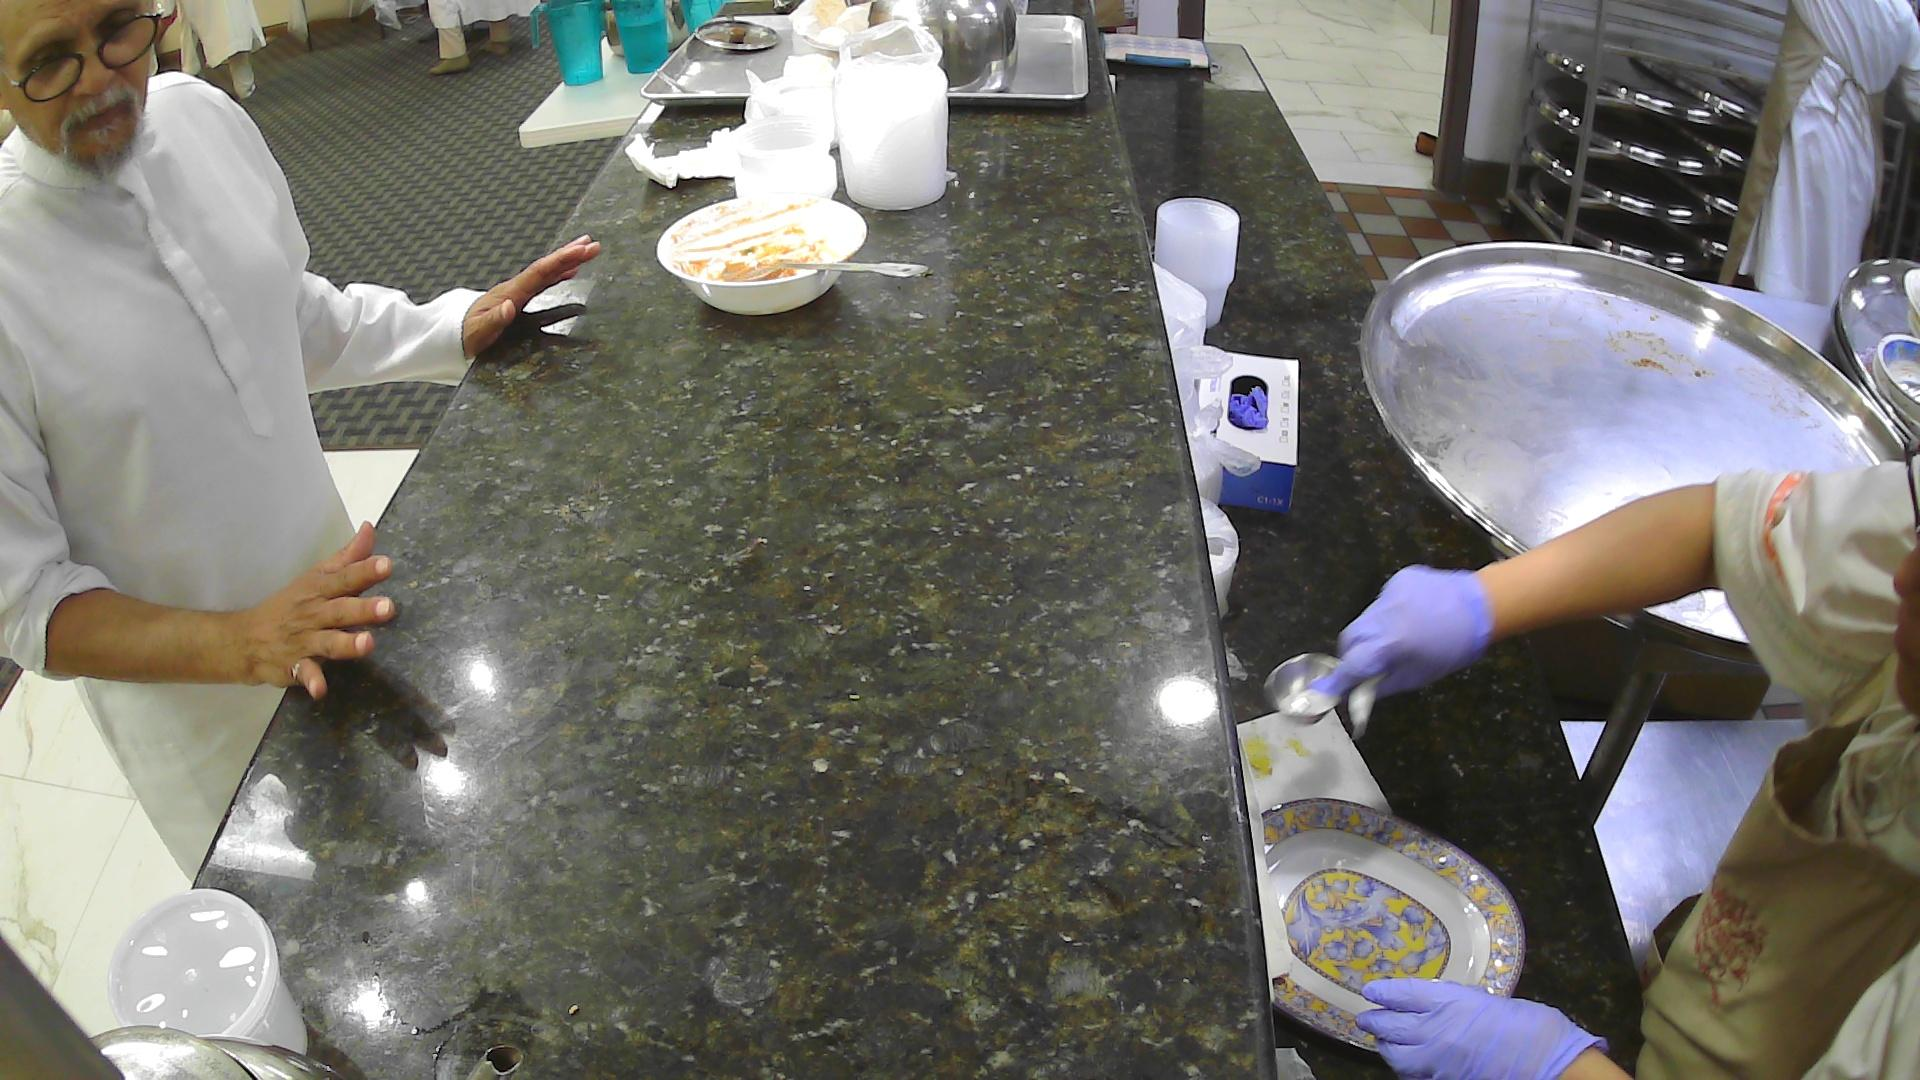thaal: (1356, 236, 1920, 694), (1834, 252, 1920, 472)
